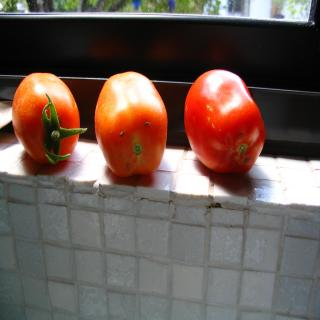tomato: (176, 63, 266, 175), (92, 72, 166, 178), (10, 72, 87, 163)
